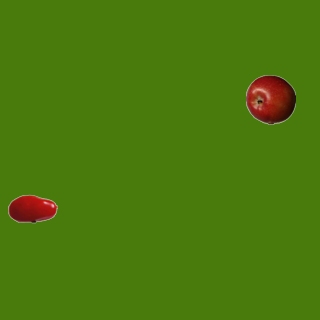Apple Braeburn: (245, 74, 295, 124)
Tomato 2: (7, 183, 57, 233)
